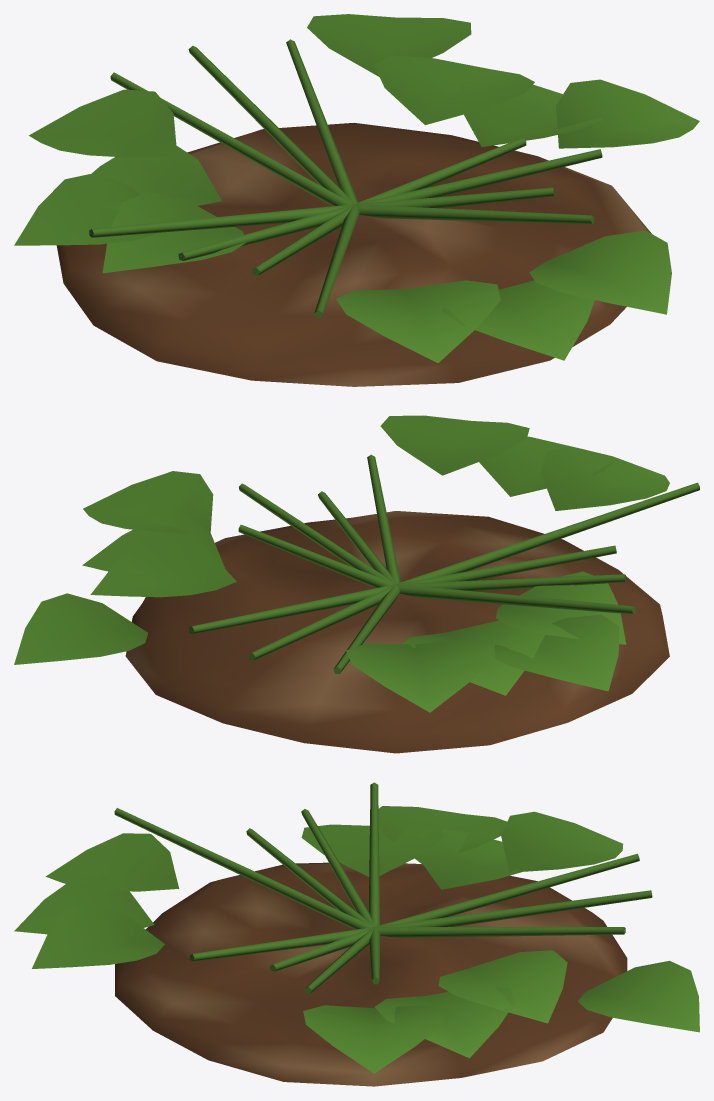
File: plant-pumpkin-4.gltf
The picture shows the model from 3 angles, top to bottom: view 1: azimuth 30°, elevation 25°; view 2: azimuth 150°, elevation 25°; view 3: azimuth 270°, elevation 25°; orthographic projection. The views are drawn at different scales.
Size of the model in its own units: 1.55 by 0.2477 by 1.69.
